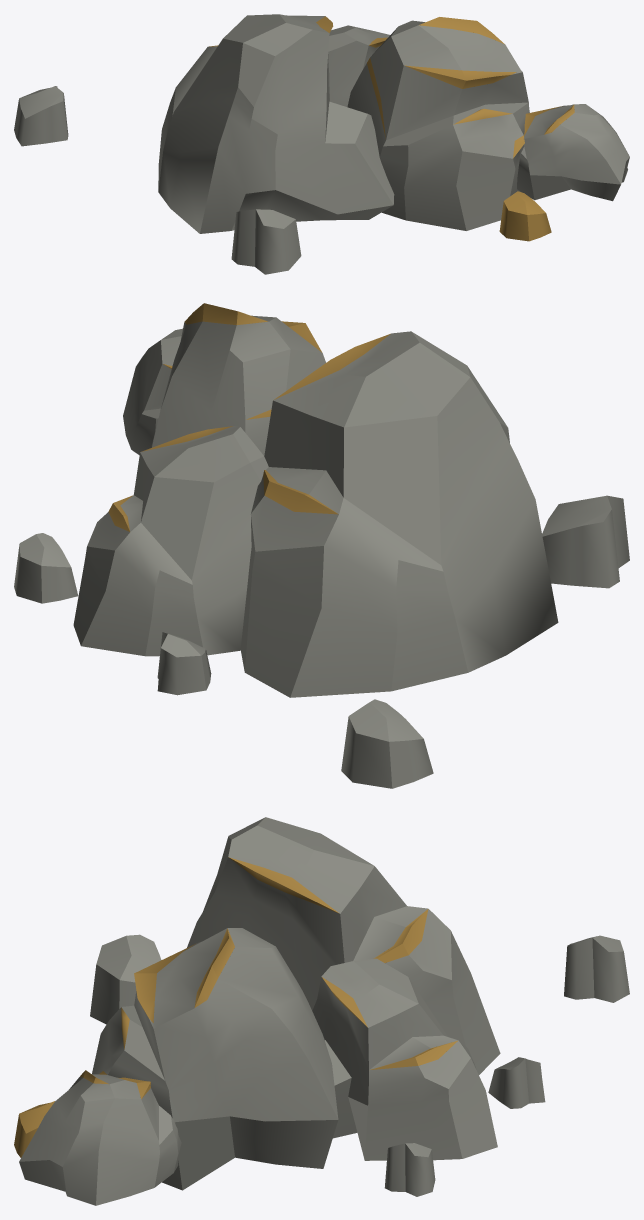
The model's file is Resource_Gold_2.glb.
The picture shows the model from 3 angles, top to bottom: view 1: azimuth 30°, elevation 25°; view 2: azimuth 150°, elevation 25°; view 3: azimuth 270°, elevation 25°; orthographic projection. The views are drawn at different scales.
Parts seen in each view (by area): view 1: Resource_Gold_2; view 2: Resource_Gold_2; view 3: Resource_Gold_2.
Boxes of the visible parts, x1,y1,x2,y2 form: Resource_Gold_2: (14,14,629,274); Resource_Gold_2: (14,303,629,788); Resource_Gold_2: (14,817,629,1205).
Size of the model in its own units: 0.6982 by 0.3006 by 0.7151.
